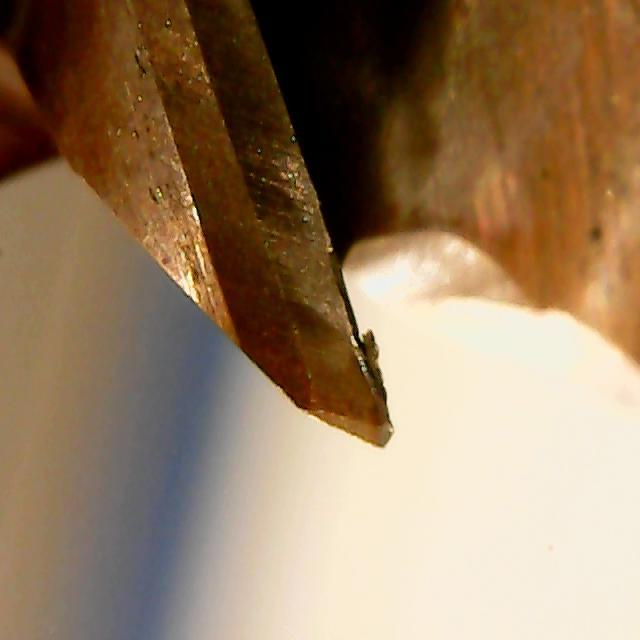Tool-wear-class-1: (234, 156, 416, 459)
